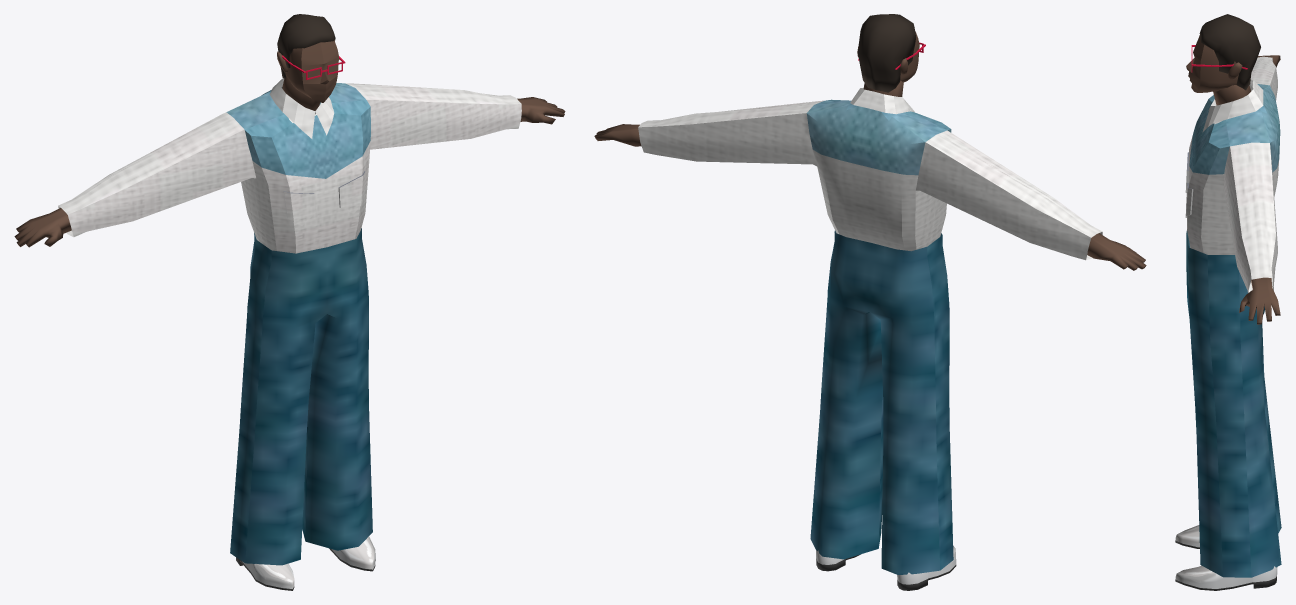
The model's file is male_receptionist_Tpose.fbx.
The picture shows the model from 3 angles, left to right: view 1: azimuth 30°, elevation 25°; view 2: azimuth 150°, elevation 25°; view 3: azimuth 270°, elevation 25°; orthographic projection.
Visible parts, largest first — view 1: Cylinder, Cube.003, Plane, hand, Cube, Cube.002; view 2: Cylinder, Cube.003, Cube.002, hand, Cube; view 3: Cylinder, Cube.003, Cube.002, Cube, Plane, hand, Cylinder.001, Plane.001, Sphere.001.
Part boxes in pixels (left/top/right/bottom): Cylinder: left=230, top=228, right=372, bottom=565; Cube.003: left=58, top=78, right=521, bottom=253; Plane: left=283, top=40, right=338, bottom=102; hand: left=14, top=97, right=565, bottom=247; Cube: left=236, top=536, right=375, bottom=590; Cube.002: left=277, top=14, right=335, bottom=78; Cylinder: left=810, top=230, right=953, bottom=574; Cube.003: left=638, top=88, right=1102, bottom=260; Cube.002: left=857, top=14, right=915, bottom=92; hand: left=594, top=124, right=1146, bottom=270; Cube: left=816, top=545, right=956, bottom=590; Cylinder: left=1186, top=231, right=1281, bottom=577; Cube.003: left=1185, top=56, right=1280, bottom=292; Cube.002: left=1199, top=14, right=1260, bottom=90; Cube: left=1175, top=525, right=1277, bottom=590; Plane: left=1186, top=35, right=1238, bottom=92; hand: left=1239, top=55, right=1280, bottom=324; Cylinder.001: left=1213, top=85, right=1251, bottom=105; Plane.001: left=1191, top=45, right=1247, bottom=72; Sphere.001: left=1228, top=62, right=1242, bottom=79.
Size of the model in its own units: 281 by 268 by 47.29.
Materials: 12 (4 with a texture image).
